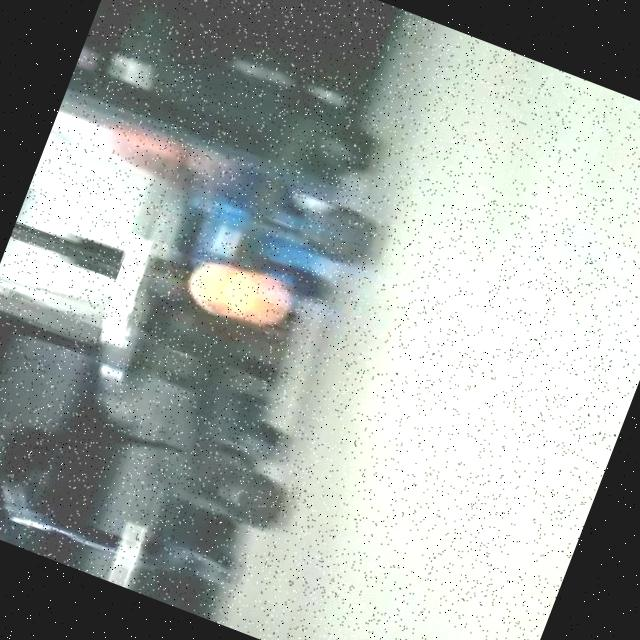ping-pong-ball: (182, 242, 300, 343)
